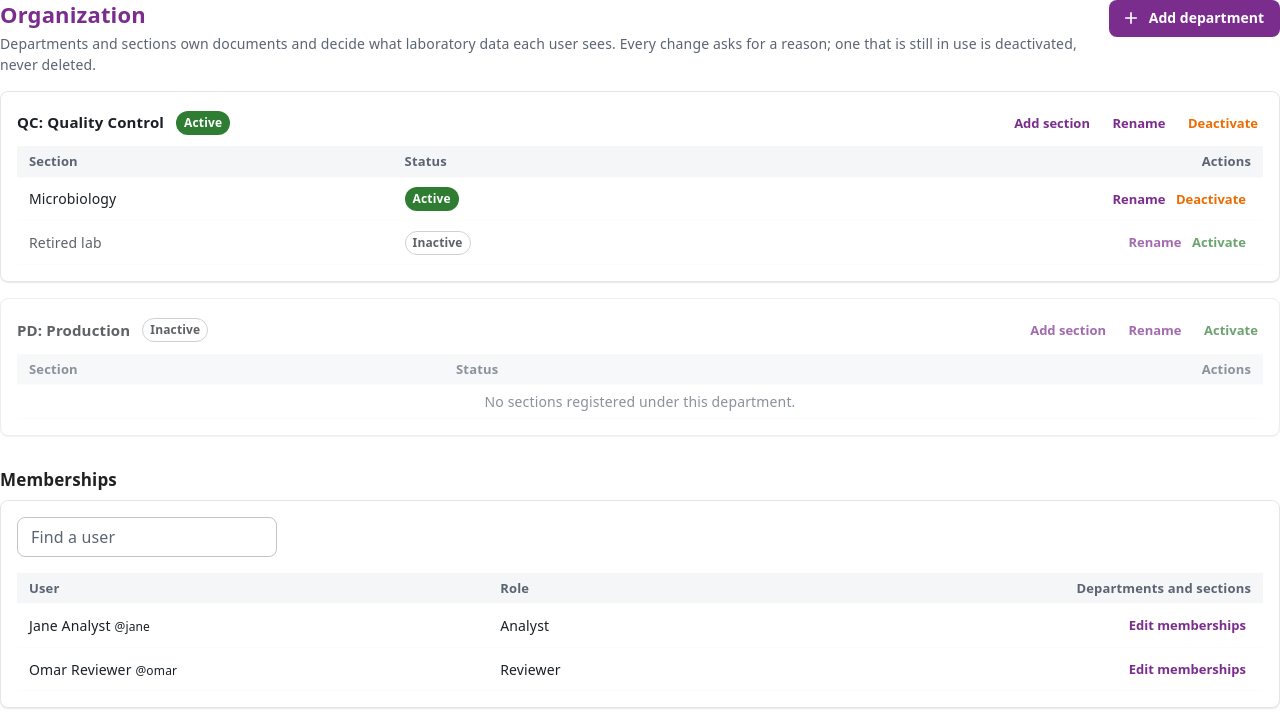
Test: OrganizationPage › checks a section's impact too
Expected: the heading "QC: Quality Control" is shown, [17,112,164,134]
Click the button with aria-label "Deactivate section Microbiology" at [1211, 199], box [1171,184,1251,214]
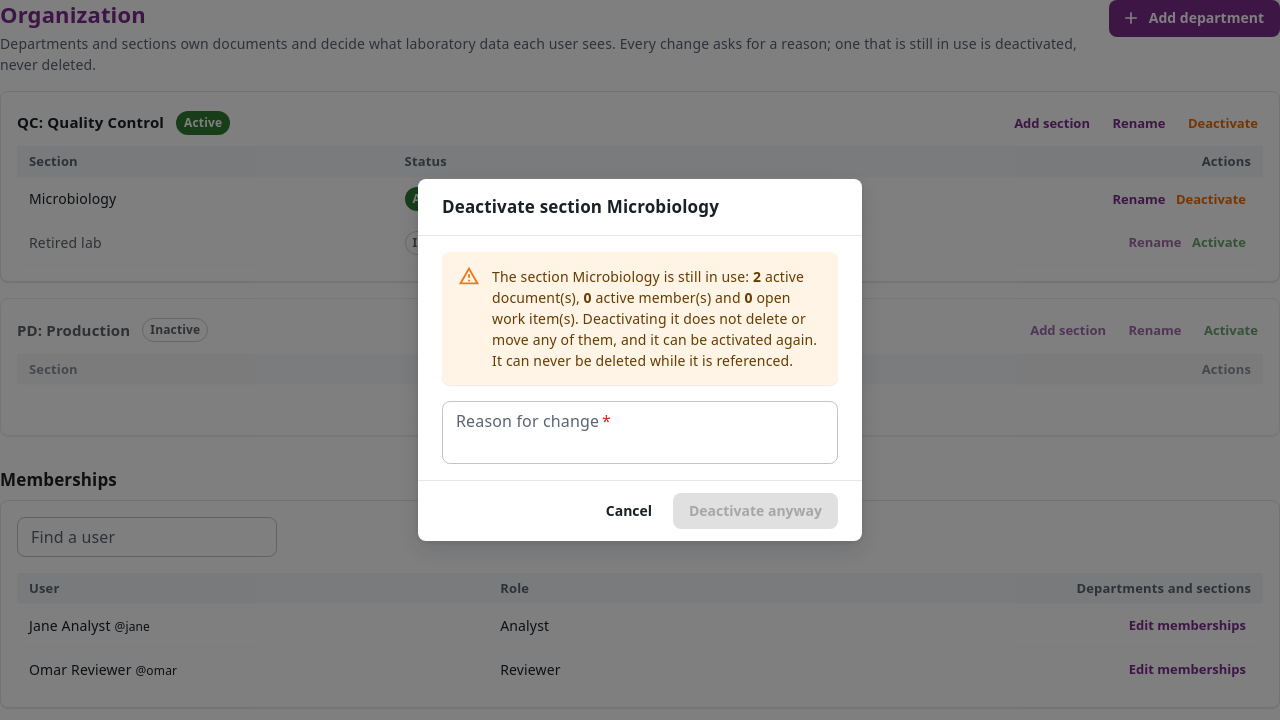
Expected: the text "still in use:" is shown, [660,267,753,286]
